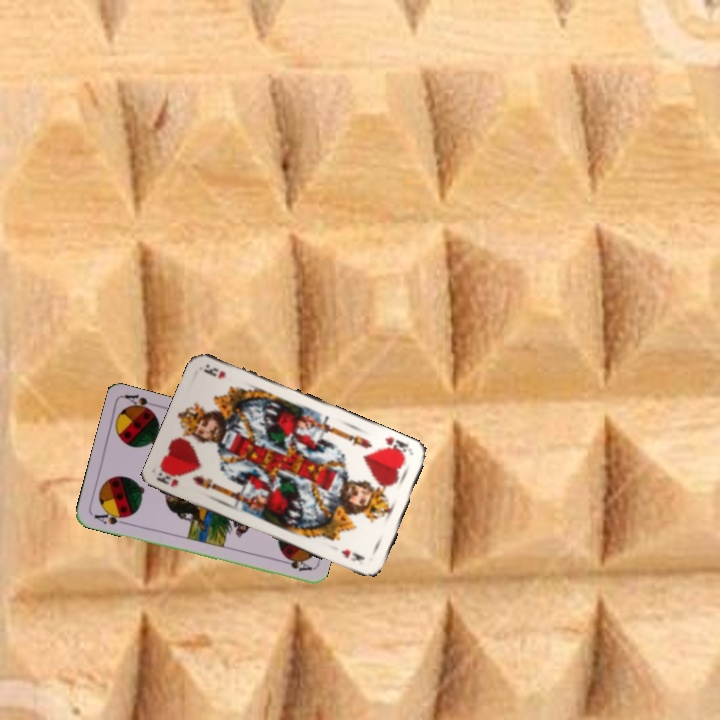HK: (379, 432, 415, 460), (154, 467, 181, 490)
SA: (90, 507, 131, 527)
